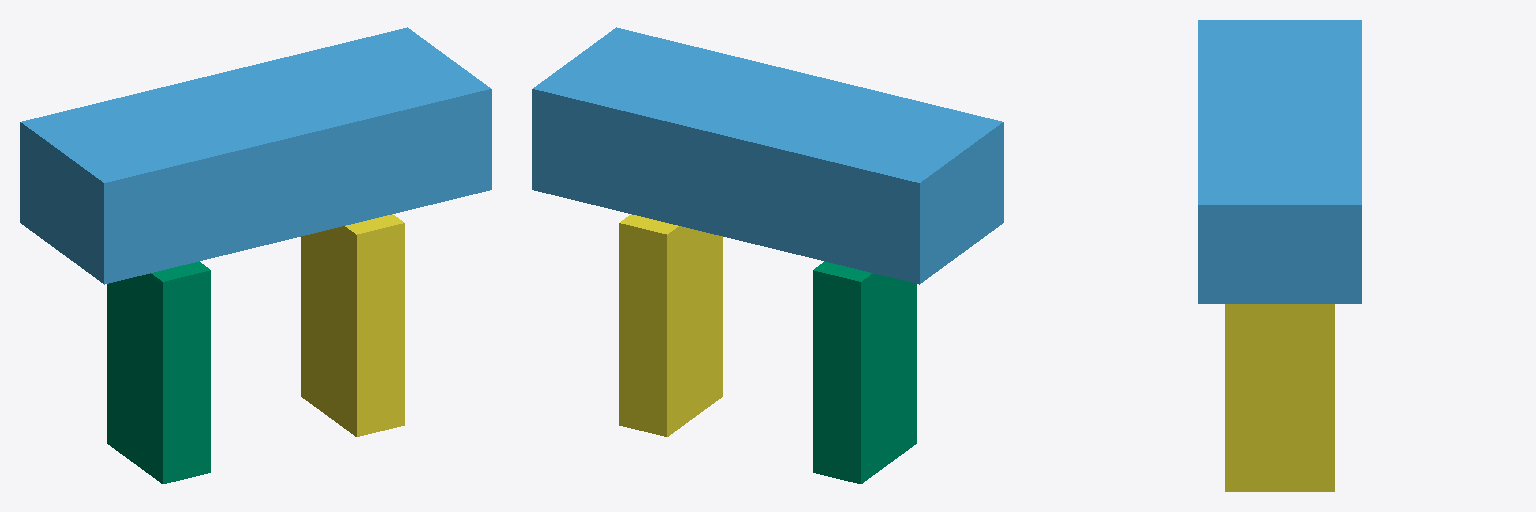
robot.urdf — rw_gripper:
<?xml version="1.0"?>
<!-- [urdf] A parallel gripper written for these tests: the right finger mimics the left one, as ROS grippers are described. -->
<robot name="rw_gripper">
  <link name="world"/>
  <link name="palm">
    <visual><geometry><box size="0.08 0.03 0.02"/></geometry></visual>
    <inertial><mass value="0.2"/><inertia ixx="0.0001" iyy="0.0001" izz="0.0001" ixy="0" ixz="0" iyz="0"/></inertial>
  </link>
  <joint name="mount" type="fixed"><parent link="world"/><child link="palm"/><origin xyz="0 0 0.3"/></joint>

  <link name="finger_left">
    <visual><geometry><box size="0.01 0.02 0.04"/></geometry></visual>
    <inertial><mass value="0.02"/><inertia ixx="0.000003" iyy="0.000003" izz="0.000001" ixy="0" ixz="0" iyz="0"/></inertial>
  </link>
  <joint name="finger_left_joint" type="prismatic">
    <parent link="palm"/><child link="finger_left"/><origin xyz="-0.02 0 -0.035"/><axis xyz="-1 0 0"/>
    <limit lower="0" upper="0.03" effort="20" velocity="0.1"/>
  </joint>

  <link name="finger_right">
    <visual><geometry><box size="0.01 0.02 0.04"/></geometry></visual>
    <inertial><mass value="0.02"/><inertia ixx="0.000003" iyy="0.000003" izz="0.000001" ixy="0" ixz="0" iyz="0"/></inertial>
  </link>
  <joint name="finger_right_joint" type="prismatic">
    <parent link="palm"/><child link="finger_right"/><origin xyz="0.02 0 -0.035"/><axis xyz="1 0 0"/>
    <limit lower="0" upper="0.03" effort="20" velocity="0.1"/>
    <mimic joint="finger_left_joint" multiplier="1" offset="0"/>
  </joint>
</robot>

--- Render facts (derived) ---
Views: 3 orthographic renders of the robot side by side, from view 1: azimuth 30°, elevation 25°; view 2: azimuth 150°, elevation 25°; view 3: azimuth 270°, elevation 25°.
Robot: rw_gripper — 4 links, 3 joints (2 prismatic, 1 fixed); root link world; default pose: every joint at zero.
Visible links, largest first — view 1: palm, finger_right, finger_left; view 2: palm, finger_right, finger_left; view 3: palm, finger_right.
Link boxes in pixels (left/top/right/bottom): palm: left=20, top=27, right=491, bottom=284; finger_right: left=301, top=214, right=404, bottom=436; finger_left: left=107, top=261, right=210, bottom=483; palm: left=532, top=27, right=1003, bottom=284; finger_right: left=619, top=214, right=722, bottom=436; finger_left: left=813, top=261, right=916, bottom=483; palm: left=1198, top=20, right=1361, bottom=303; finger_right: left=1225, top=304, right=1334, bottom=491.
Size in the robot's own frame: 0.08 by 0.03 by 0.065 metres.
Geometry: primitives only (box / cylinder / sphere), no mesh files.
